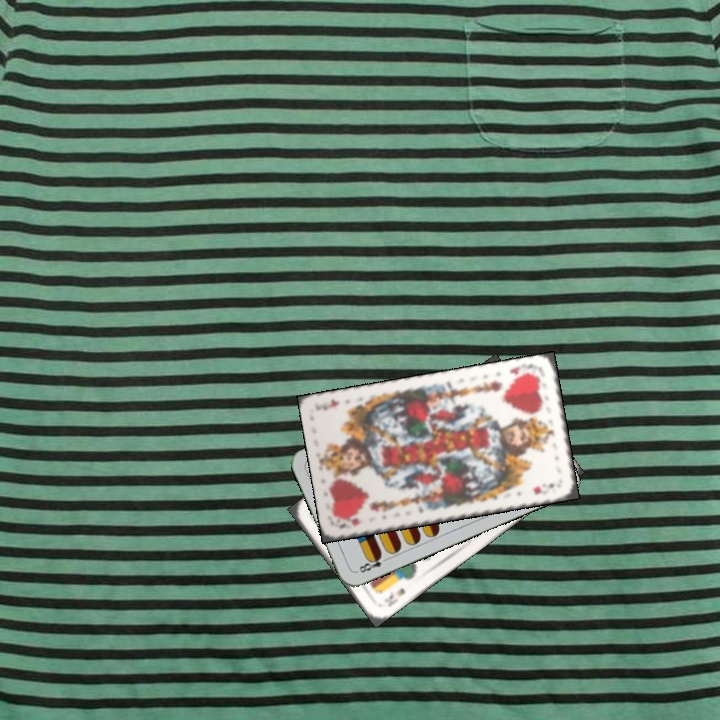E8: (352, 550, 391, 575)
EK: (381, 584, 408, 610)
HK: (506, 360, 541, 382), (334, 513, 363, 531)
